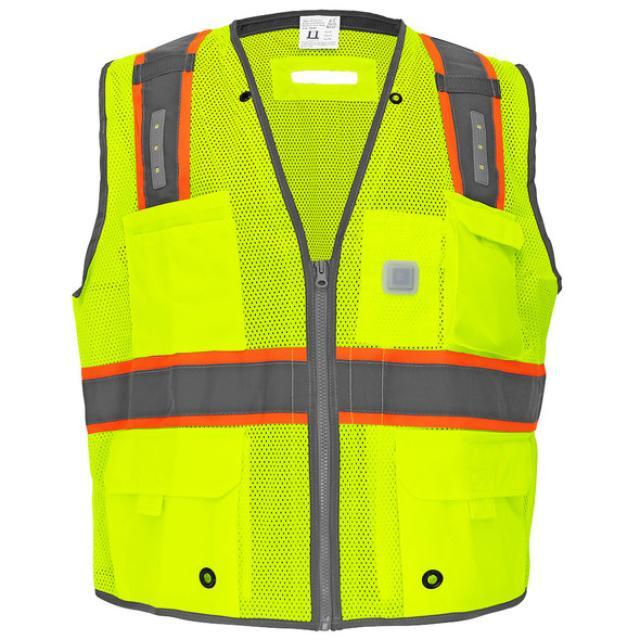jacket: (76, 23, 563, 636)
